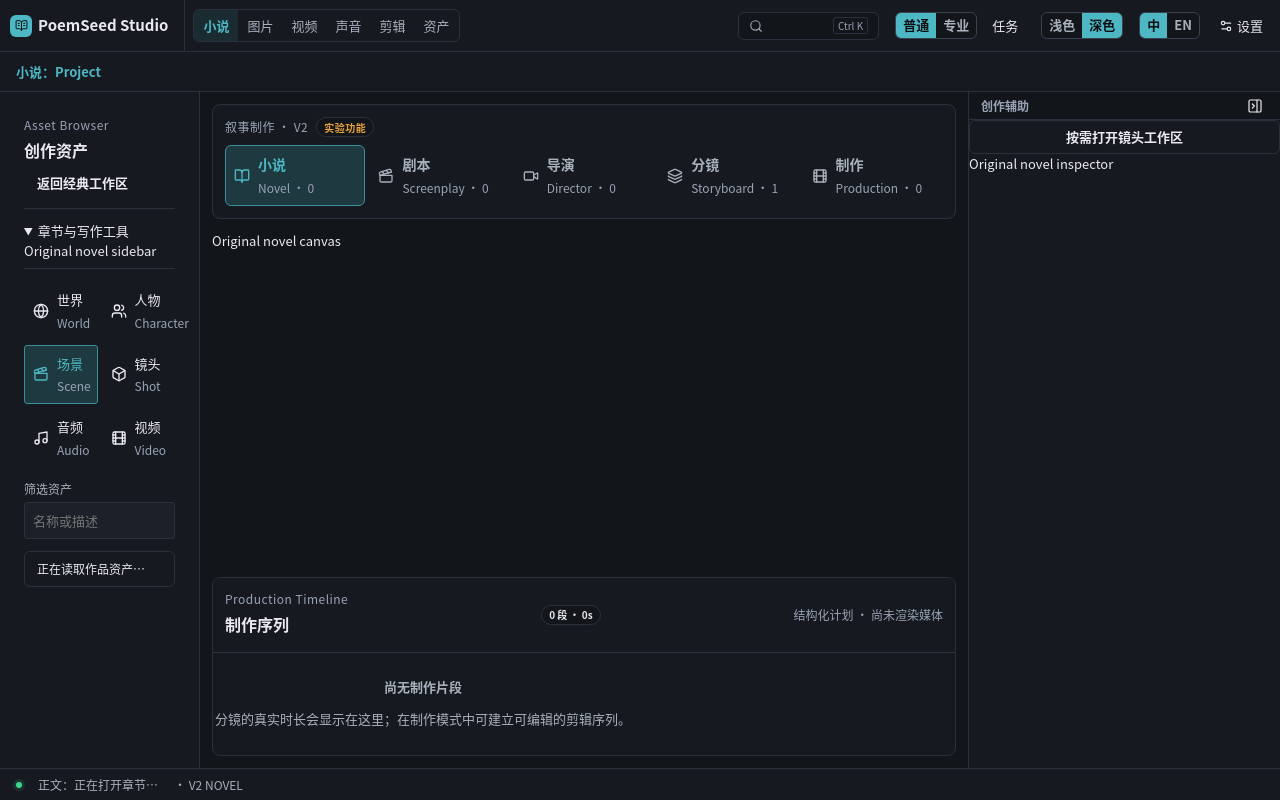
Test: Creative current document save-state ownership › projects the current saved Creative version instead of an unrelated novel loading status
Check: the footer with class "status-bar" shows "正文：正在打开章节…", box [38,776,158,792]
Click the tab "分镜 Storyboard · 1" at (728, 176), box [658,145,799,206]
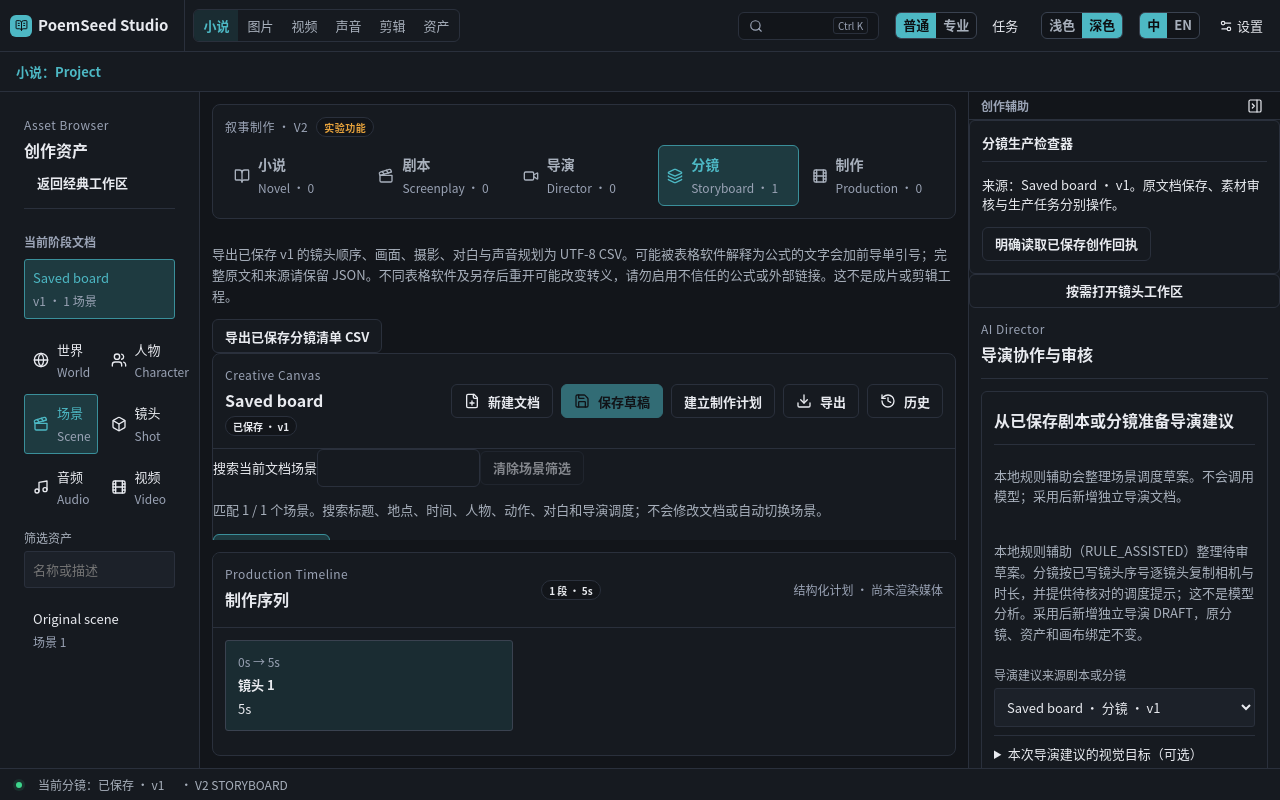
Check: the text with class "status-bar" no longer shows "正文：正在打开章节…"
Check: the footer with class "status-bar" shows "当前分镜：已保存 · v1", box [0,768,1279,799]
Check: the message named "当前创作文档保存状态" shows "已保存 · v1", box [98,776,164,792]
